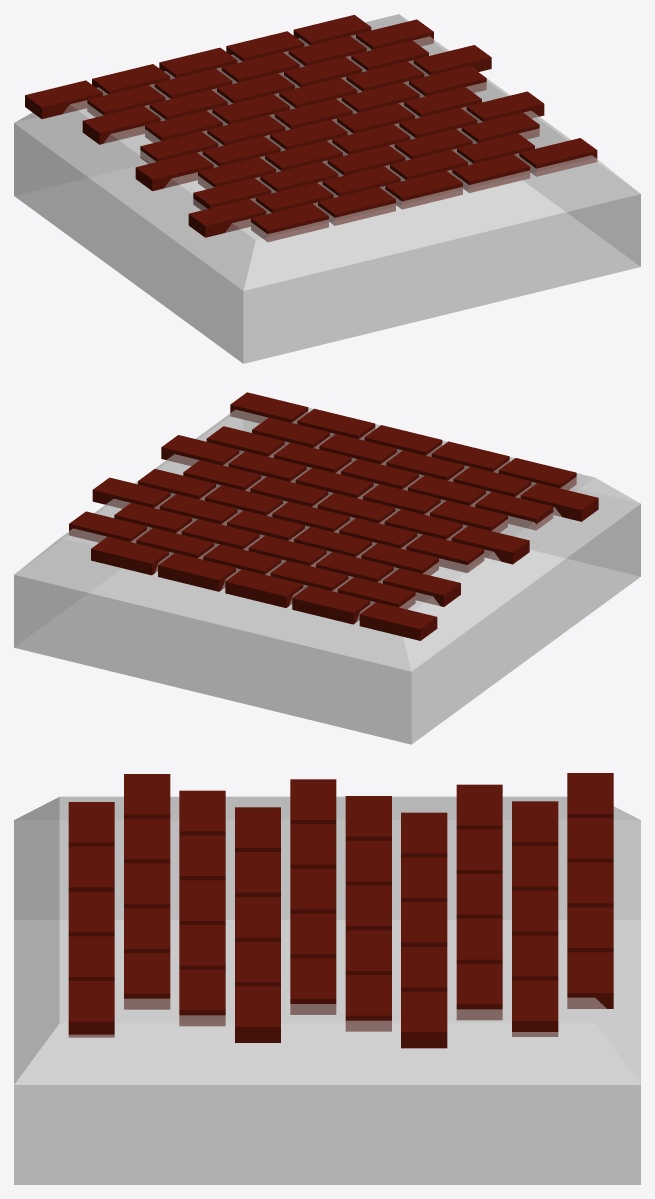
Rendered from Tile_City.fbx.
3 renders of one model, top to bottom at view 1: azimuth 30°, elevation 25°; view 2: azimuth 150°, elevation 25°; view 3: azimuth 270°, elevation 25°, orthographic. The views are drawn at different scales.
Visible parts, largest first — view 1: Tile_City; view 2: Tile_City; view 3: Tile_City.
Part boxes in pixels (bbox=[...]): Tile_City: bbox=[14, 14, 640, 363]; Tile_City: bbox=[14, 392, 640, 744]; Tile_City: bbox=[14, 773, 640, 1184].
Bounding box in the file's own units: 2 × 0.5185 × 2.
